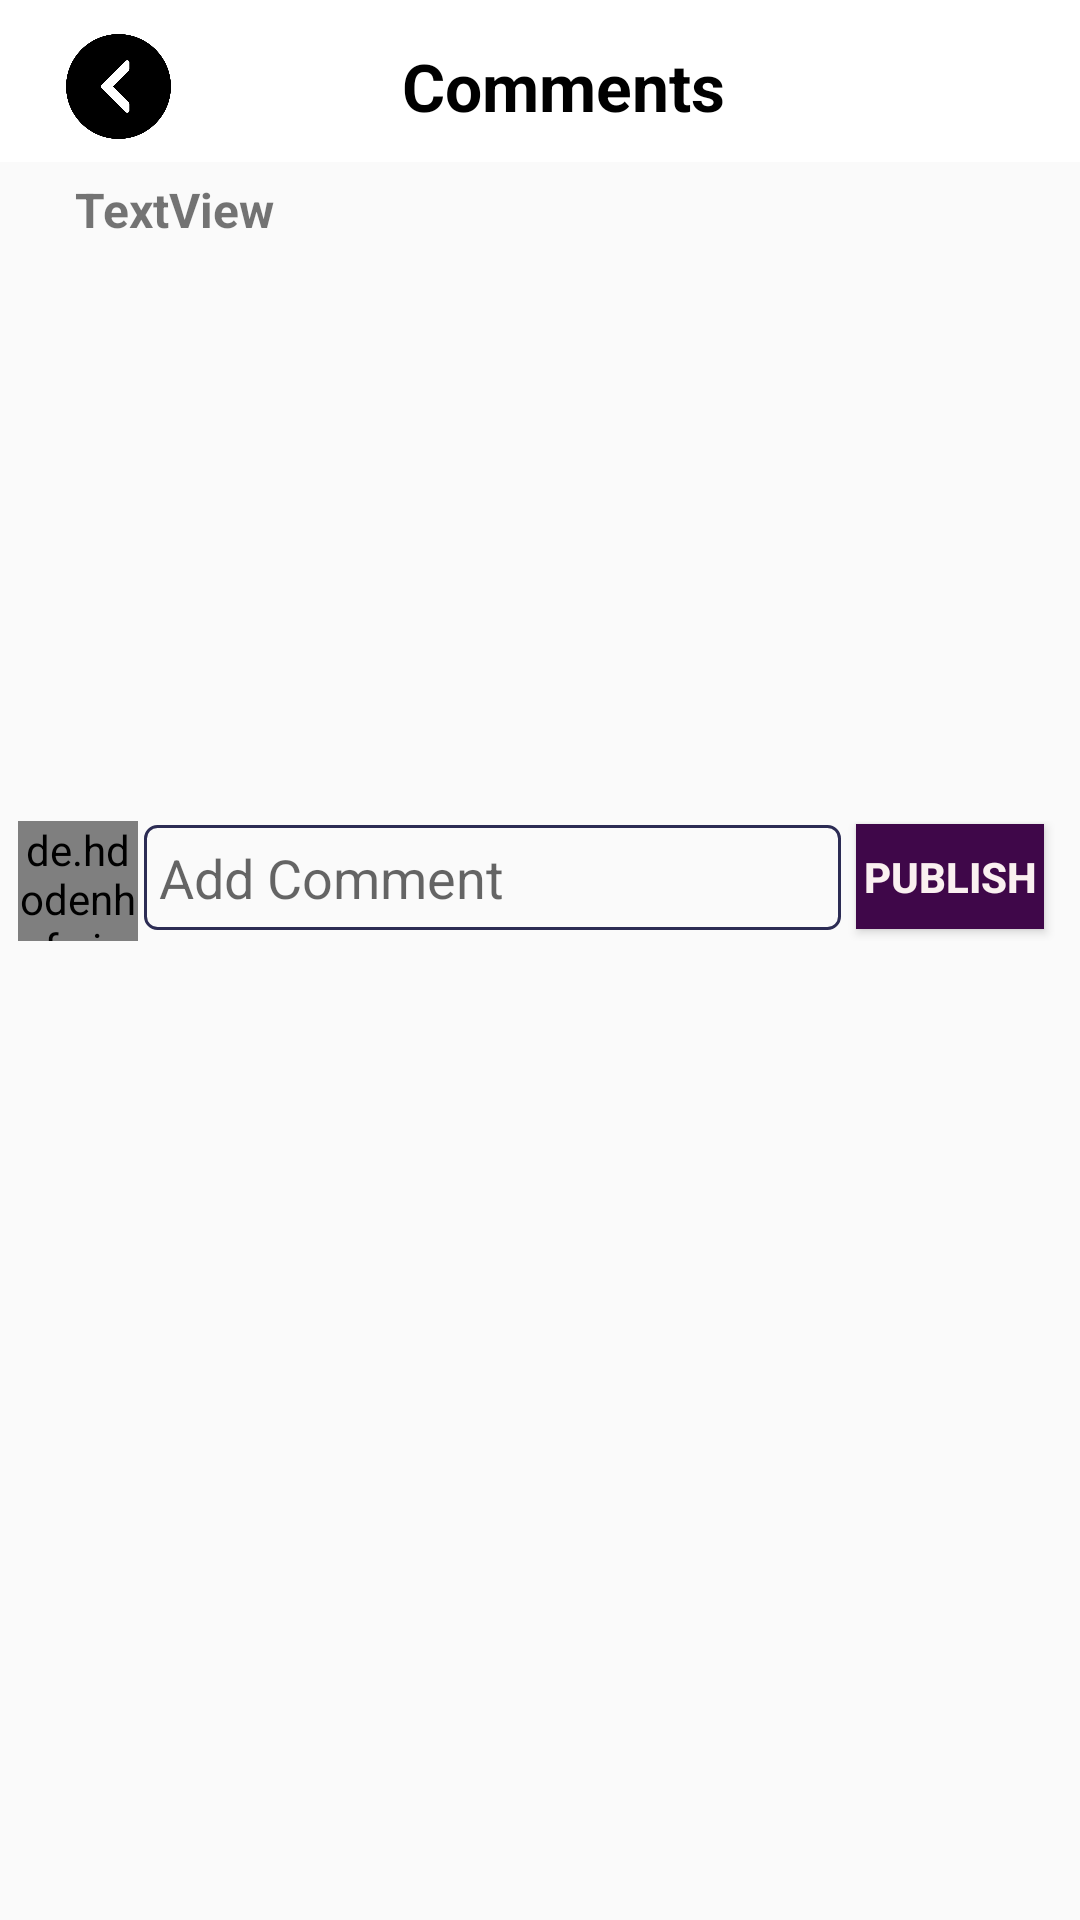

Named icons in this screenshot (1080 × 1920) and their bounding boxes, BBox(x1, y1, x2, y2):
back: BBox(66, 34, 171, 139)
